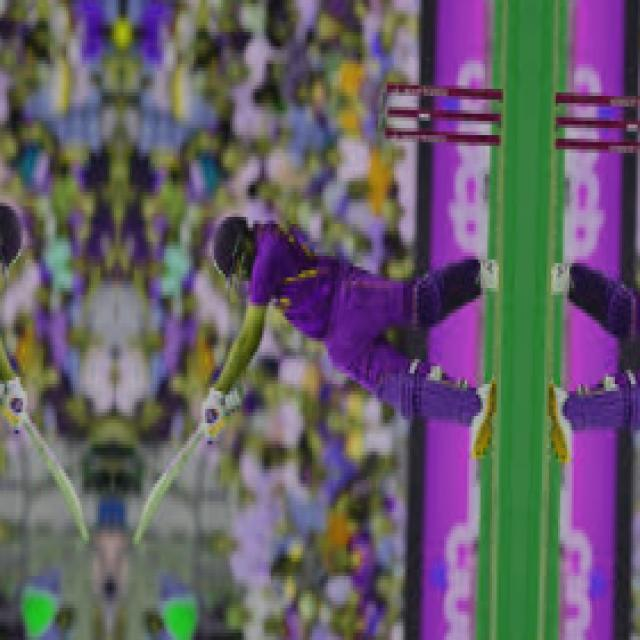toe: (129, 523, 146, 548)
